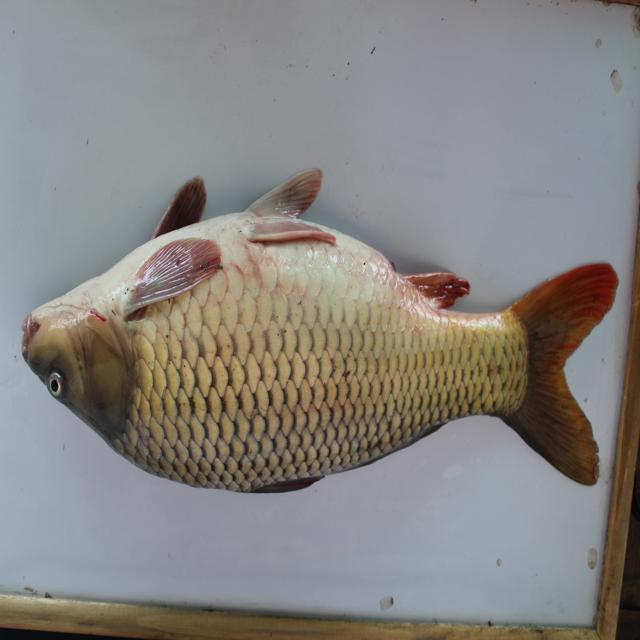CommonCarp: (28, 167, 625, 508)
